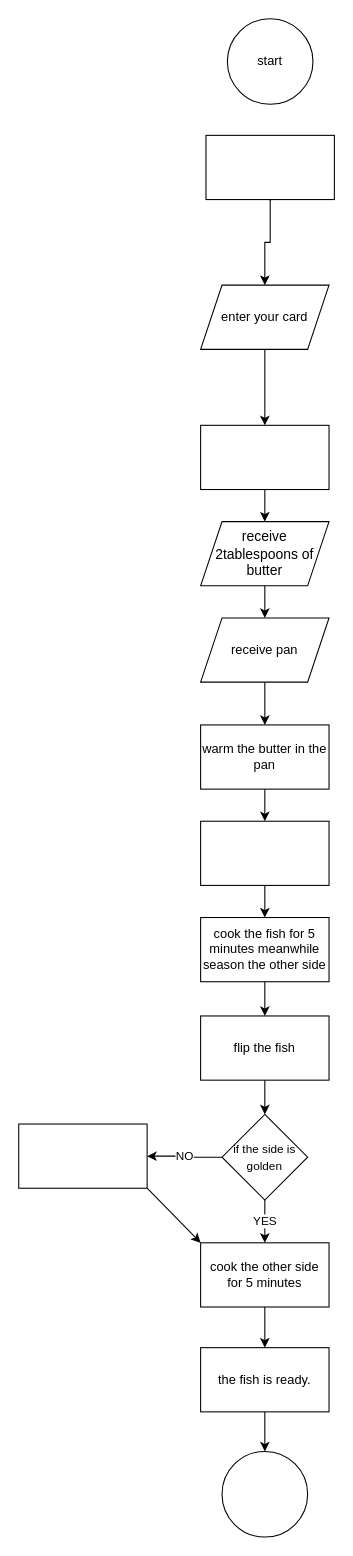
This 353x1556 diagram has some shape labels left out. The shapes that lost their labels are listed below. From the top down, each one's box as (x1, y1, x2, y2) in pixels, then its label:
(205, 134, 334, 200): locate an ATM
(200, 424, 329, 490): sprinkle salt and pepper on top of fish
(200, 820, 329, 885): lay the seasoned side of the fish in the pan
(18, 1123, 147, 1188): cook the fish for 2 more minutes
(221, 1450, 308, 1537): serve it hot.
